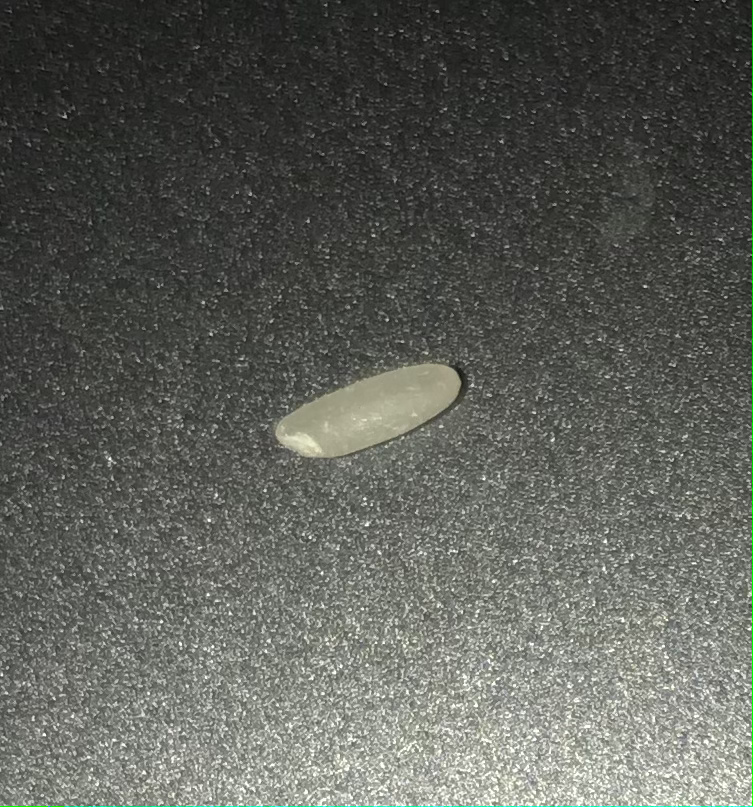Gao Tam Thom: (244, 322, 490, 470)
